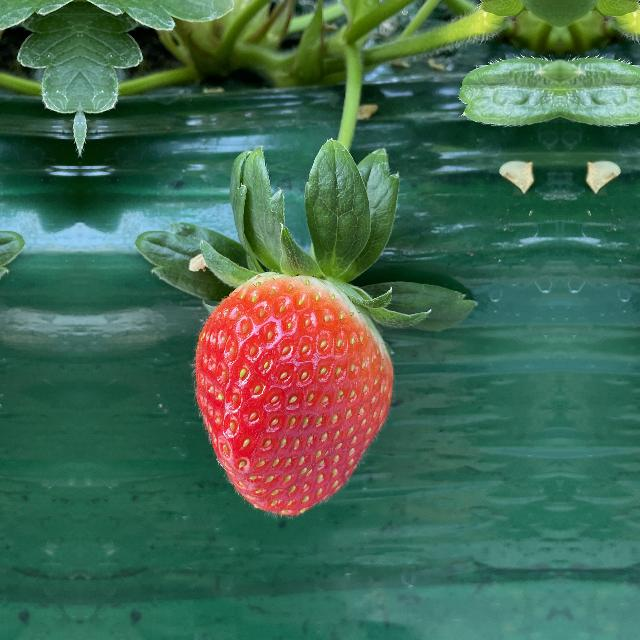Health_100: (190, 266, 400, 526)
